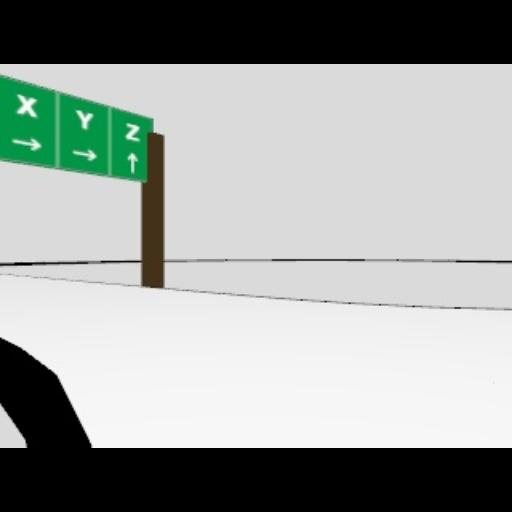Right: (11, 136, 43, 152), (70, 147, 98, 161)
Straight: (126, 152, 138, 172)
X: (16, 93, 36, 115)
Y: (75, 108, 93, 130)
Z: (124, 123, 142, 143)
